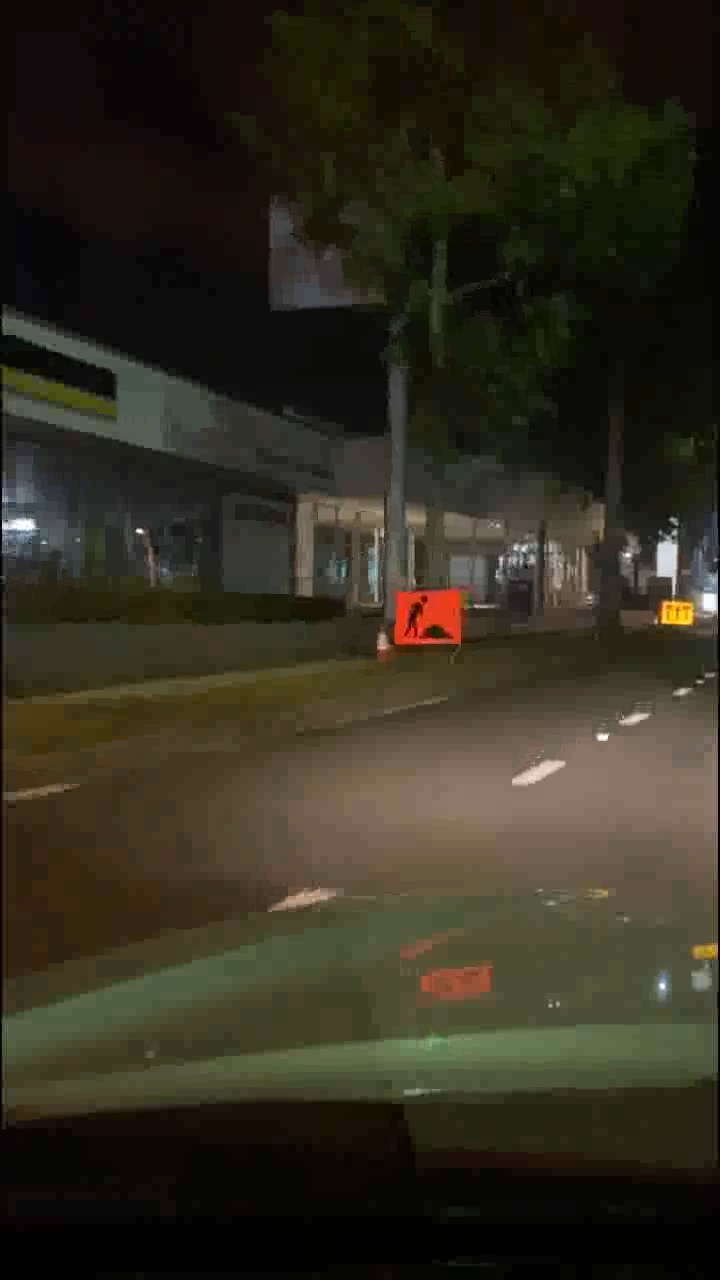road works sign board: (387, 590, 462, 648), (660, 600, 696, 627)
